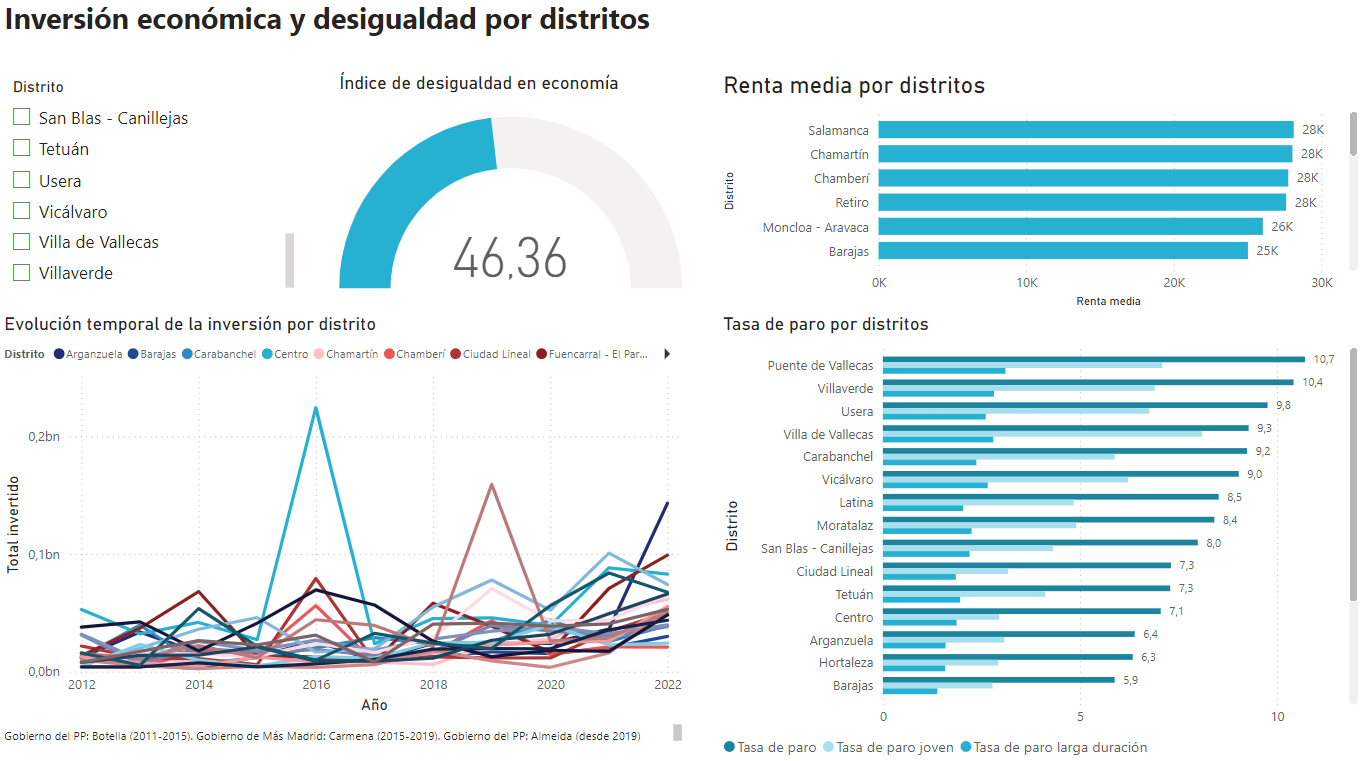

This screenshot's page, from the dashboard's own definition file:
{"tool":"powerbi","page":{"name":"Inversión y economía","canvas":[1280,720],"ordinal":1},"visuals":[{"type":"slicer","fields":{"Values":["economia.distrito"]},"box":[0,73.3,279.5,206.3],"z":0},{"type":"gauge","title":"Índice de desigualdad en economía","fields":{"MinValue":["Tabla_Indices.MinimoPorcentaje"],"MaxValue":["Tabla_Indices.TotalPorcentaje"],"Y":["indices.indice_desigualdad_economia"]},"box":[311.1,73.3,329.1,224.3],"z":1000},{"type":"barChart","title":"Renta media por distritos","fields":{"Y":["economia.renta_media"],"Category":["economia.distrito"]},"box":[668.4,73.3,600.8,224.3],"z":2000},{"type":"clusteredBarChart","title":"Tasa de paro por distritos","fields":{"Category":["economia.distrito"],"Y":["economia.tasa_paro","economia.tasa_paro_joven","economia.tasa_paro_larga_duracion"]},"box":[668.4,297.6,600.8,422.7],"z":3000},{"type":"lineChart","title":"Evolución temporal de la inversión por distrito","fields":{"Category":["presupuestos.año"],"Y":["presupuestos.total_invertido"],"Series":["economia.distrito"]},"box":[0,298,640.1,377.1],"z":4000},{"type":"textbox","box":[0,675.1,640.2,24.8],"z":5000},{"type":"textbox","box":[0,0,885.9,48.5],"z":6000}]}

Visuals, with their boxes in screenshot pixels (x1, y1, x2, y2), scaled from the page's 1280x720 canvas onto the 1369x761 screenshot:
slicer - economia.distrito: locate(0, 77, 299, 296)
"Índice de desigualdad en economía" gauge: locate(333, 77, 685, 315)
"Renta media por distritos" barChart: locate(715, 77, 1357, 315)
"Tasa de paro por distritos" clusteredBarChart: locate(715, 315, 1357, 760)
"Evolución temporal de la inversión por distrito" lineChart: locate(0, 315, 685, 714)
textbox: locate(0, 714, 685, 740)
textbox: locate(0, 0, 947, 51)
